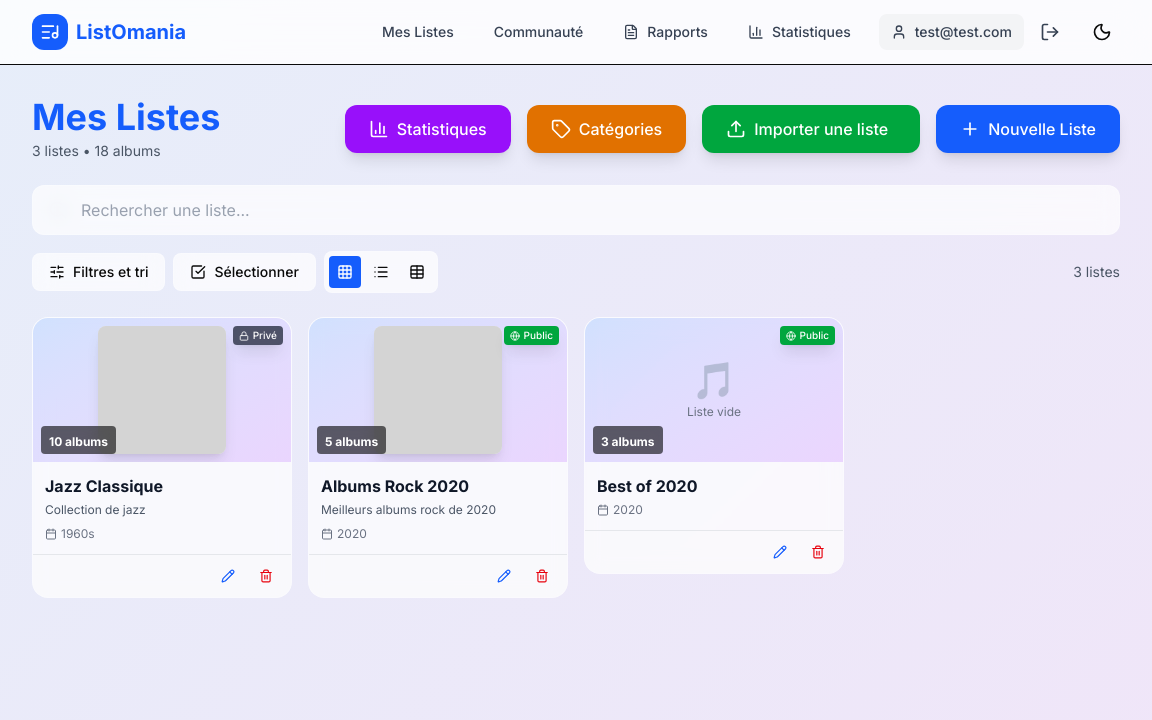
Lists - Filtres et tri › filtre les listes par le titre de recherche
The image size is (1152, 720).
Expected: the heading "Albums Rock 2020" is shown, [321,476,469,496]
Type "rock" into the field with placeholder "Rechercher une liste..." at (576, 210), box [32,185,1120,235]
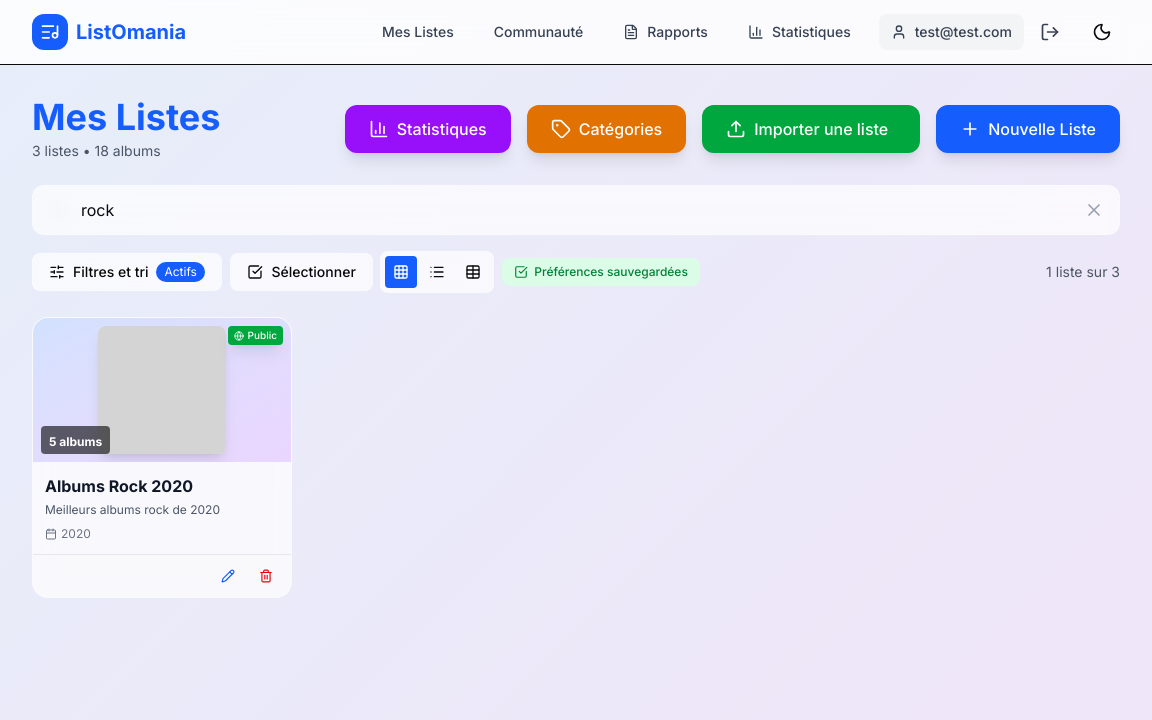
Expected: the heading "Albums Rock 2020" is shown, [45,476,193,496]
Expected: the link "Jazz Classique" is gone
